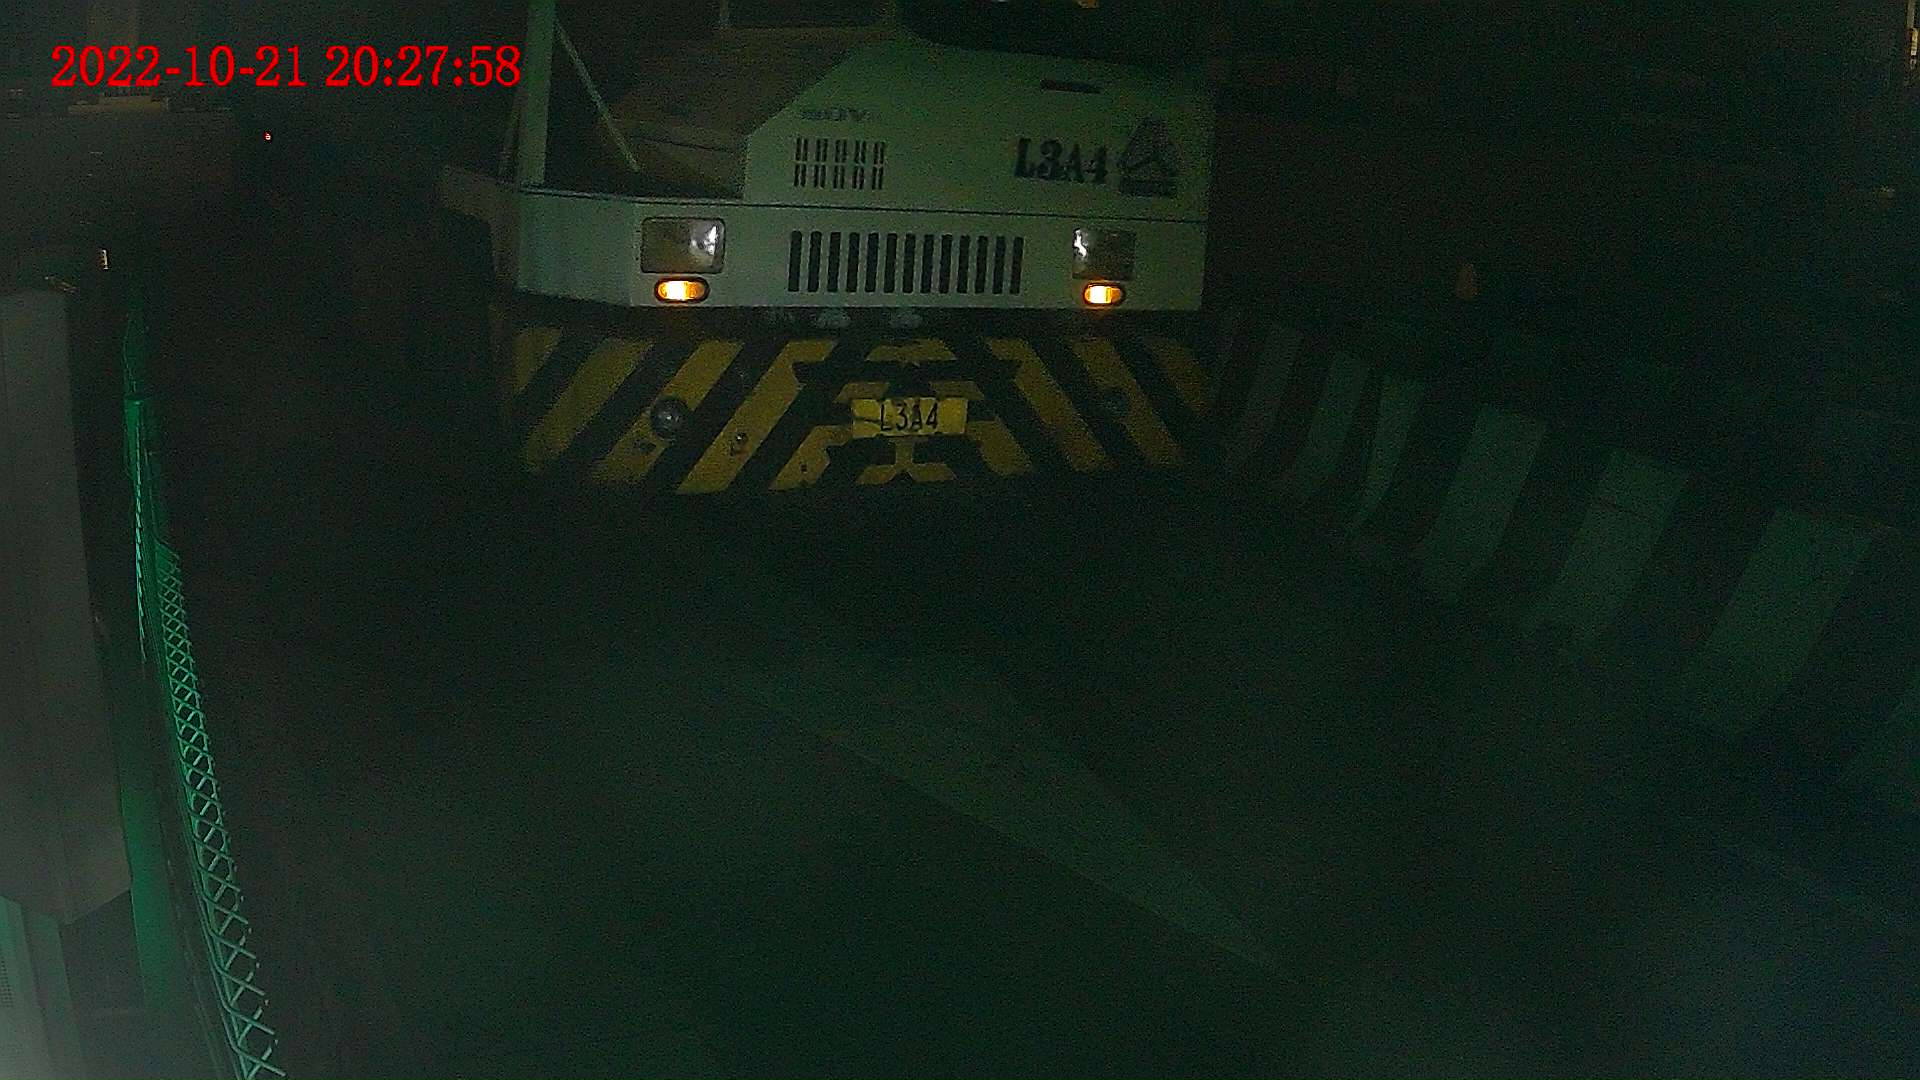head: (467, 1, 1225, 499)
plate: (847, 397, 971, 439)
